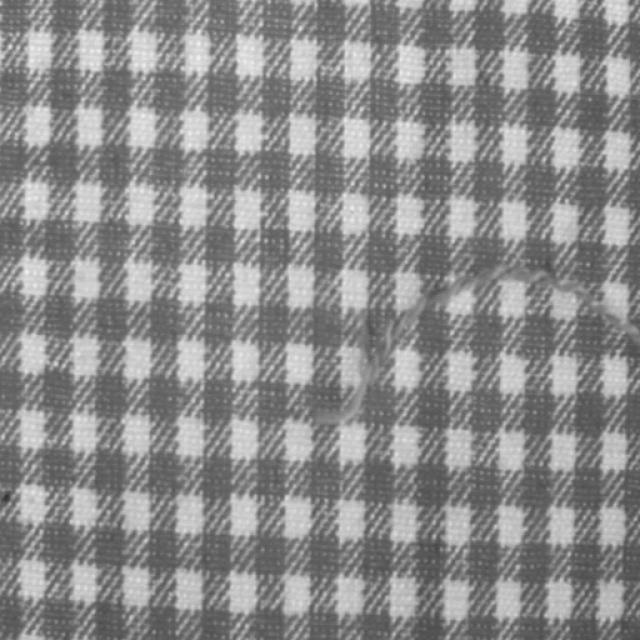Foreign-Body-Defect: (310, 280, 498, 426), (500, 272, 639, 350)
